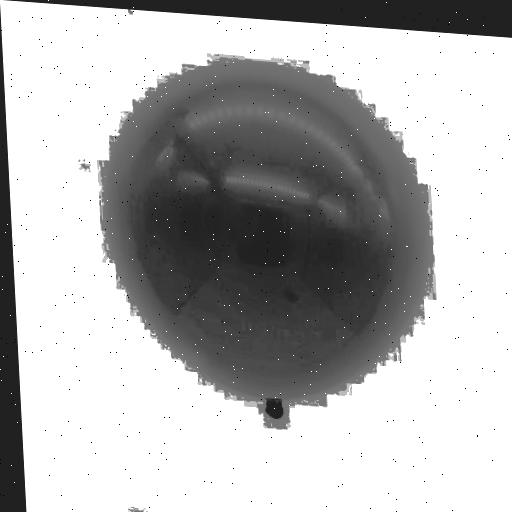balloon: (97, 47, 440, 429)
